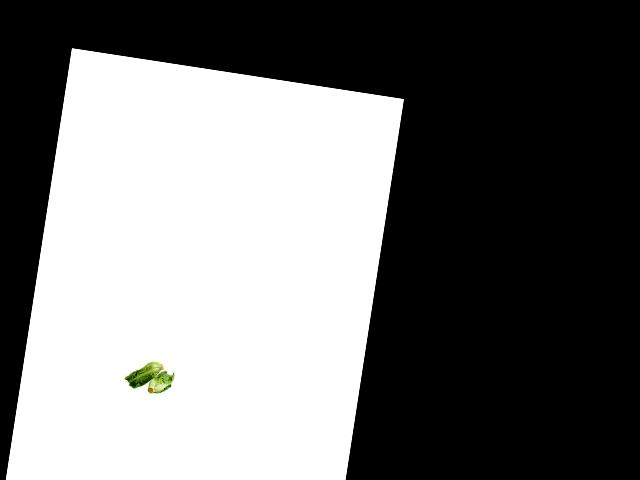lettuce: (124, 357, 177, 402)
